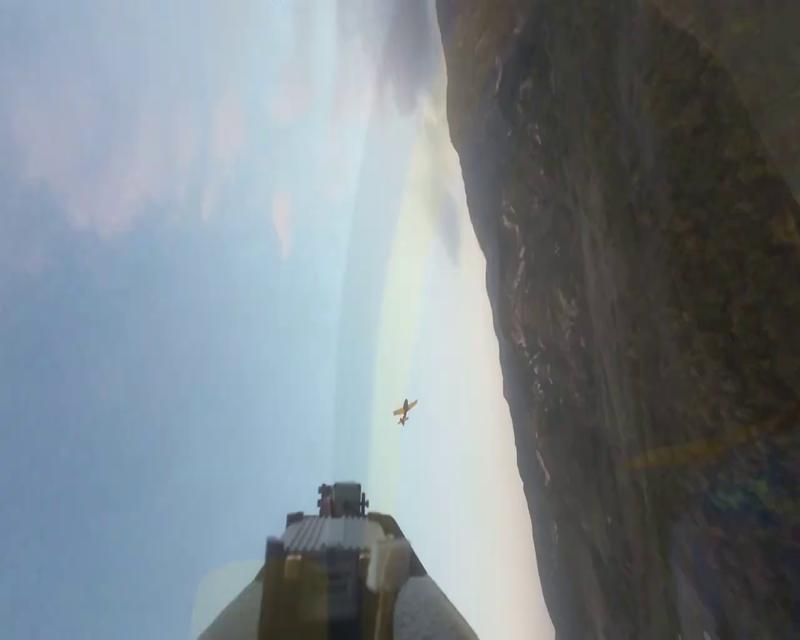UAV: (392, 397, 418, 426)
